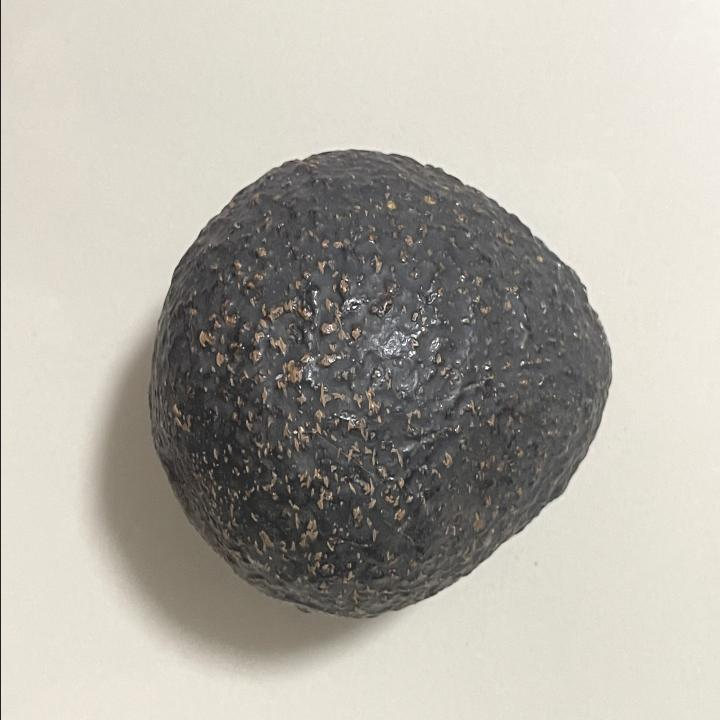Level3: (141, 134, 618, 632)
